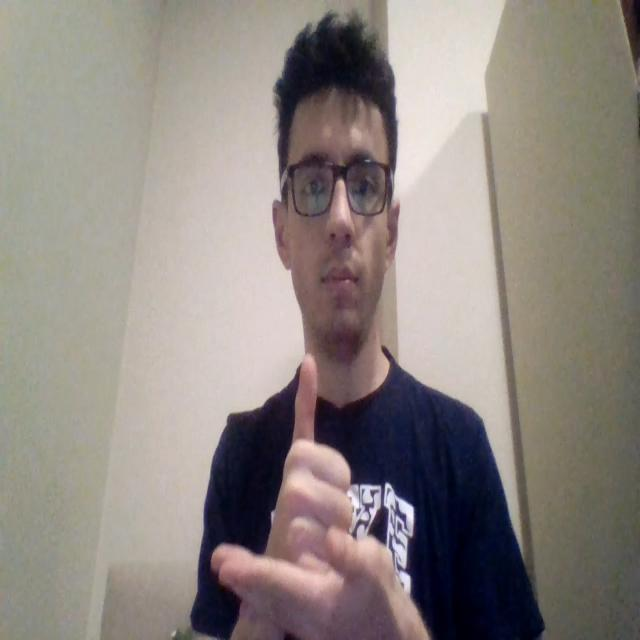help: (211, 359, 398, 640)
